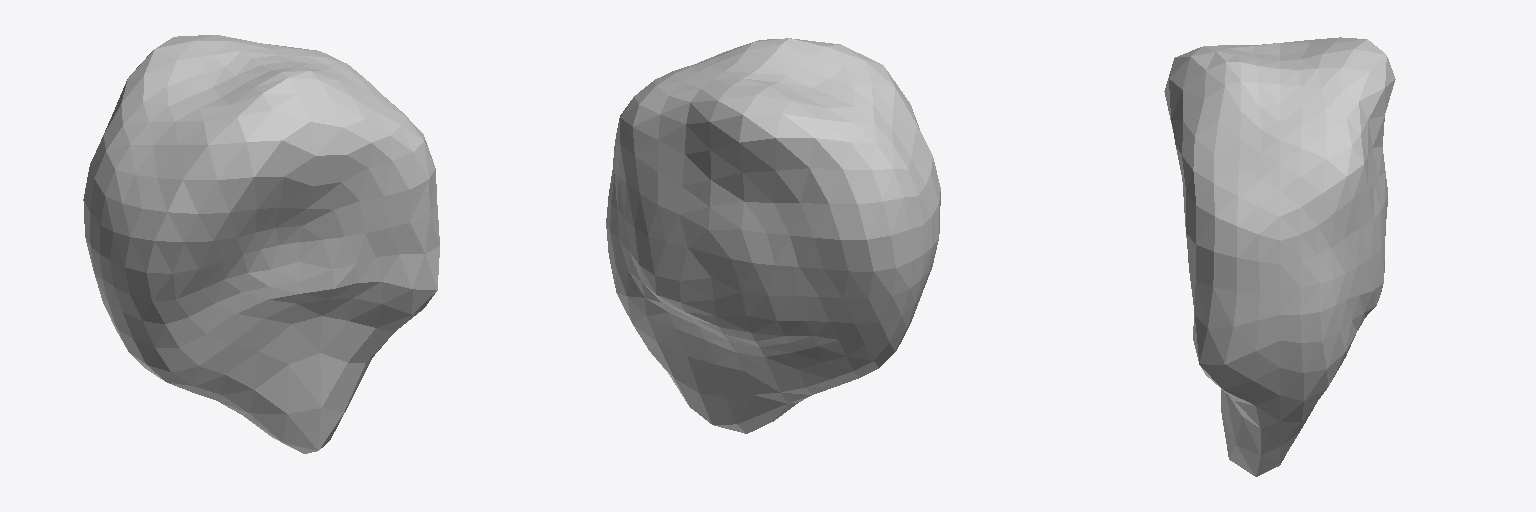
Rendered from outshape.obj.
3 renders of one model, left to right at view 1: azimuth 30°, elevation 25°; view 2: azimuth 150°, elevation 25°; view 3: azimuth 270°, elevation 25°, orthographic.
Bounding box in the file's own units: 92.21 × 111 × 59.11.